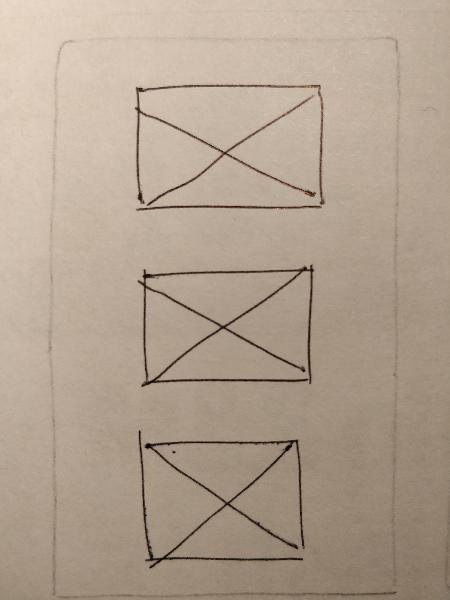image: (122, 68, 337, 223), (121, 418, 320, 575), (122, 251, 326, 398)
